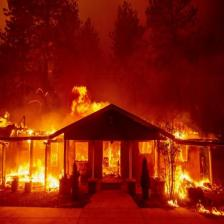fire: (0, 79, 224, 218)
